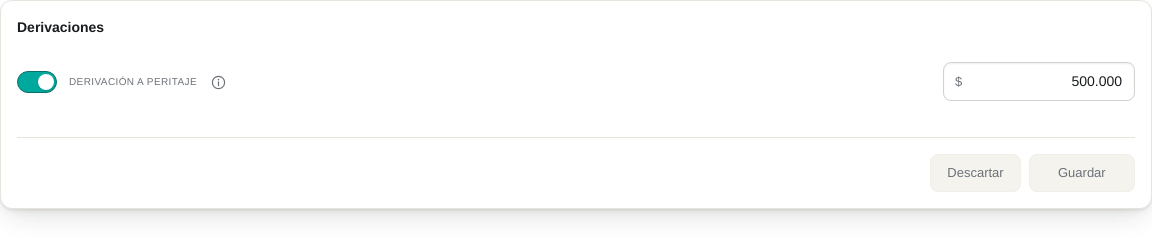
Test: DerivationsConfigComponent › replaces the amount with a note while the rule is off, and brings it back unchanged
Click the switch named "Derivación a peritaje": (37, 82) x1=17 y1=70 x2=57 y2=92
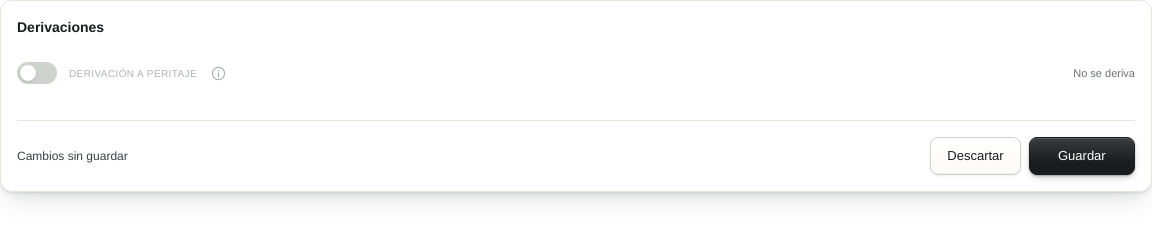
Check: the field is gone
Check: the text "No se deriva" is shown, box x1=1073 y1=65 x2=1135 y2=81
Click the switch named "Derivación a peritaje": (37, 73) x1=17 y1=62 x2=57 y2=84
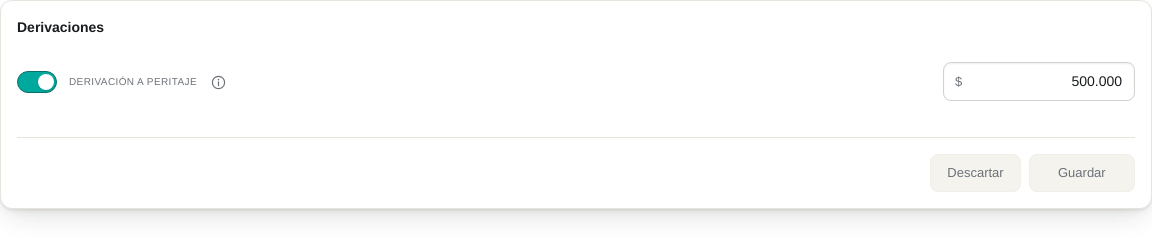
Check: the button "Guardar" is disabled, box x1=1029 y1=154 x2=1135 y2=192
